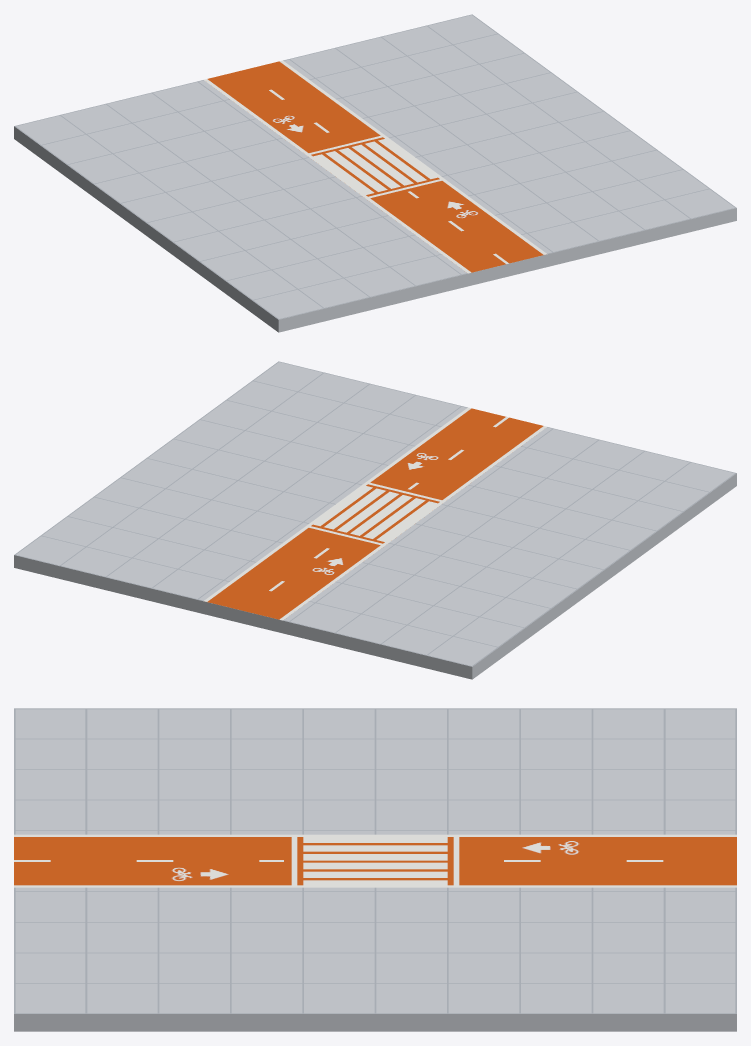
Rendered from ciclovia_faixa_pedestres.glb.
The picture shows the model from 3 angles, top to bottom: view 1: azimuth 30°, elevation 25°; view 2: azimuth 150°, elevation 25°; view 3: azimuth 270°, elevation 25°; orthographic projection. The views are drawn at different scales.
Parts seen in each view (by area): view 1: ciclovia_faixa_pedestres; view 2: ciclovia_faixa_pedestres; view 3: ciclovia_faixa_pedestres.
Part boxes in pixels (<box>): ciclovia_faixa_pedestres: <box>14,14,736,332</box>; ciclovia_faixa_pedestres: <box>14,361,736,679</box>; ciclovia_faixa_pedestres: <box>14,708,736,1031</box>.
Bounding box in the file's own units: 15 × 0.4045 × 15.
2 materials, 2 textured.
